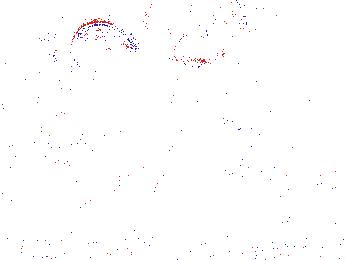moon jellyfish: (144, 1, 249, 66), (1, 107, 86, 172), (193, 79, 268, 140), (68, 21, 133, 75), (1, 1, 76, 38)
